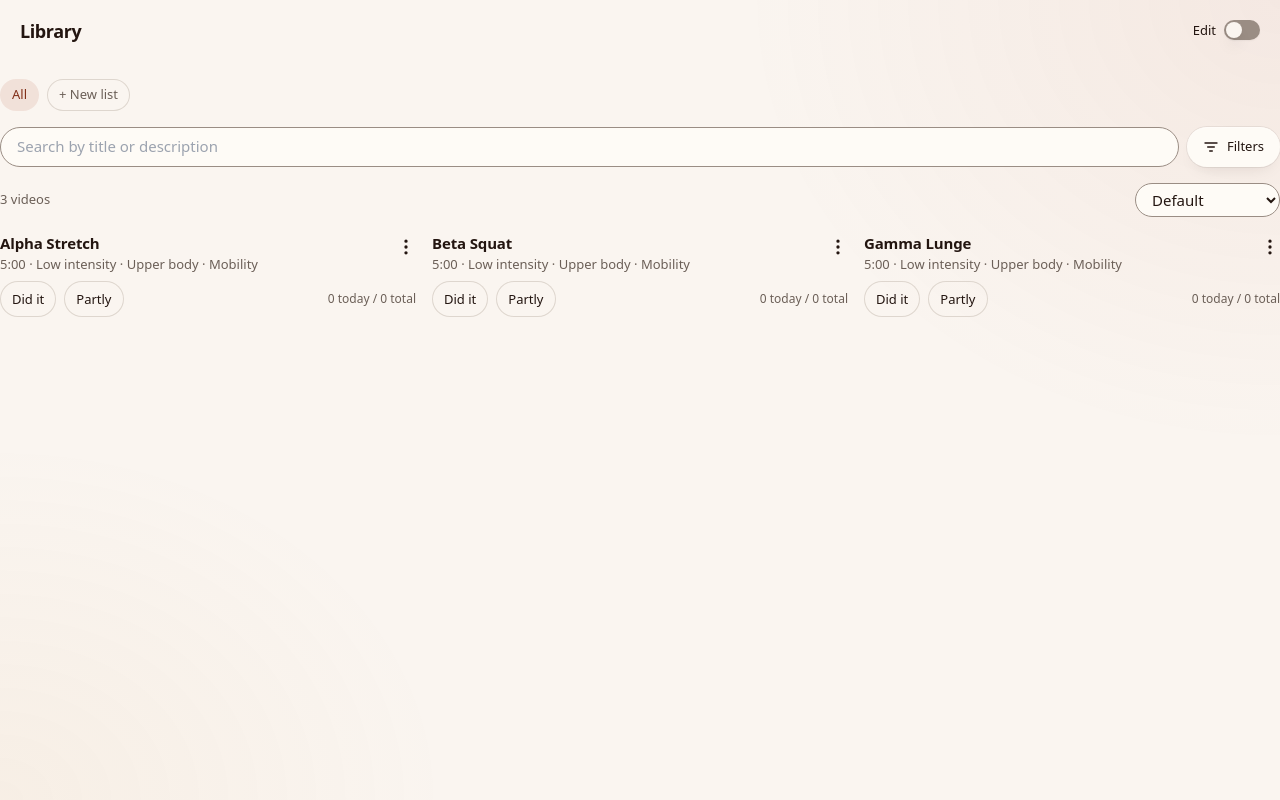
adds an exercise in edit mode
Expected: the heading "Alpha Stretch" is shown, [0,232,100,252]
Click the switch named "edit".
click(1242, 30)  # box [1224,20,1260,40]
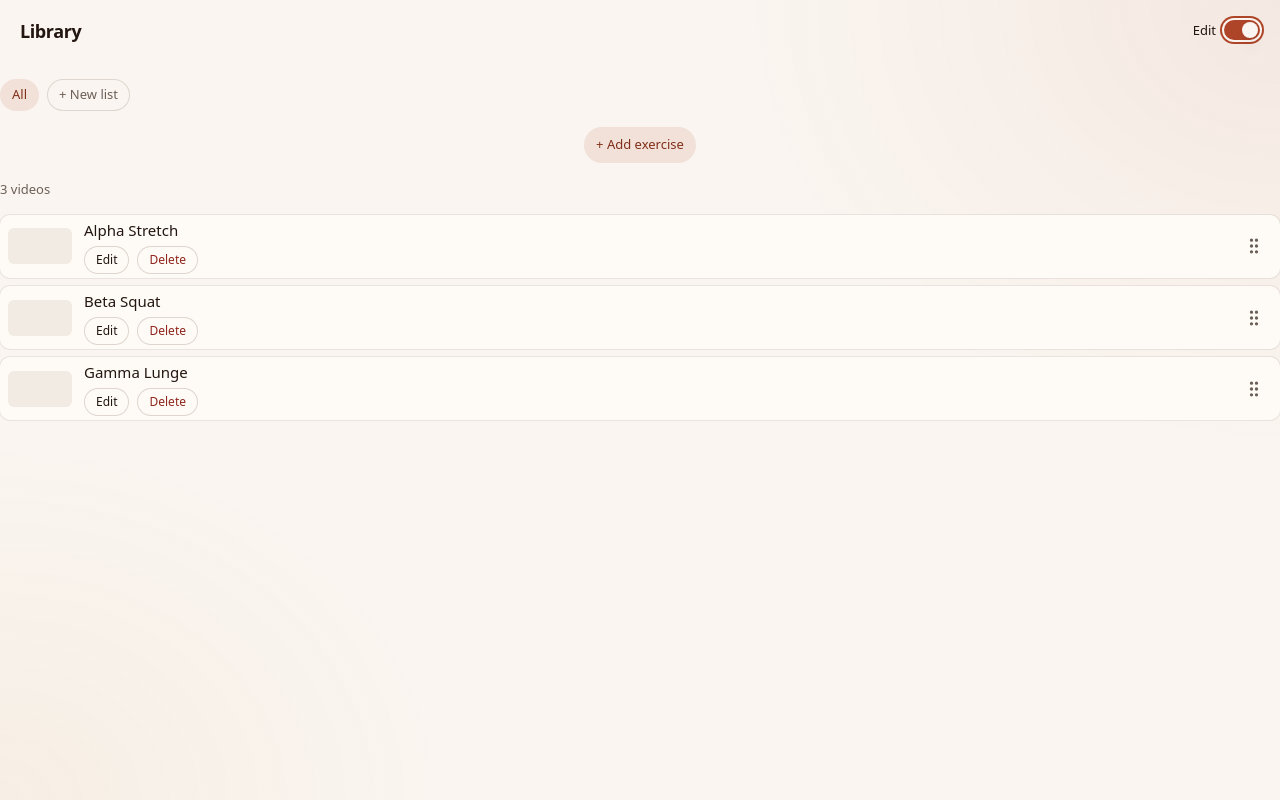
Click the button "+ Add exercise".
click(640, 144)  # box [584,126,696,162]
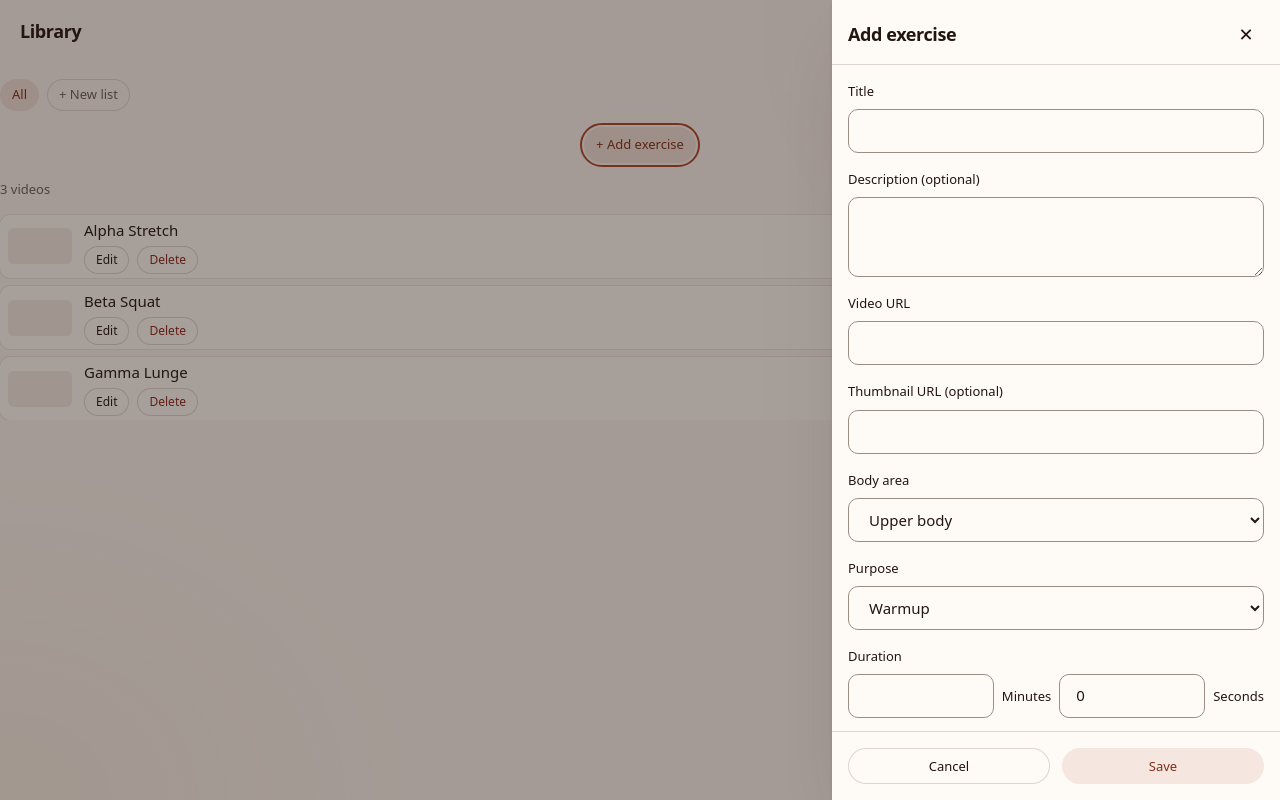
Type "Delta Plank" into the field labelled "Title".
click(1056, 131); type("Delta Plank")  # box [848,109,1264,153]
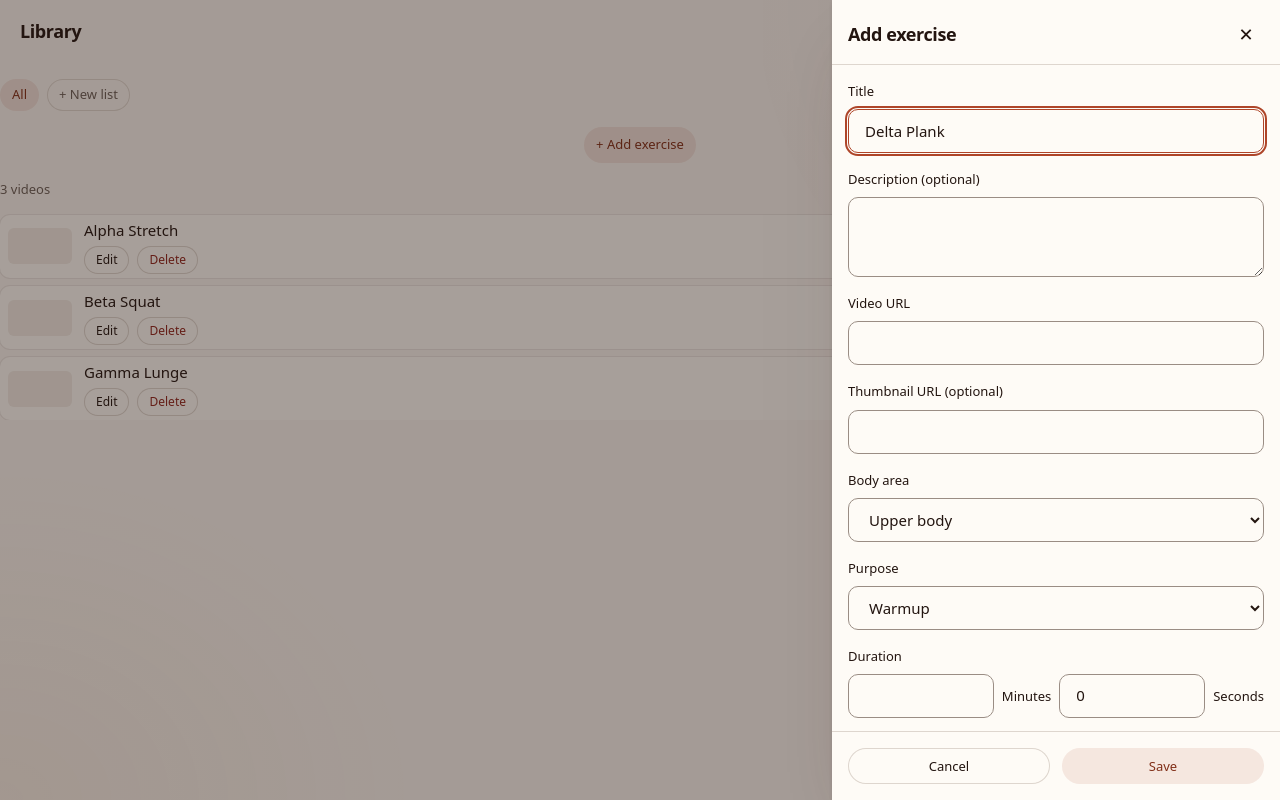
Type "https://example.com/plank.mp4" into the field labelled "Video URL".
click(1056, 343); type("https://example.com/plank.mp4")  # box [848,321,1264,365]
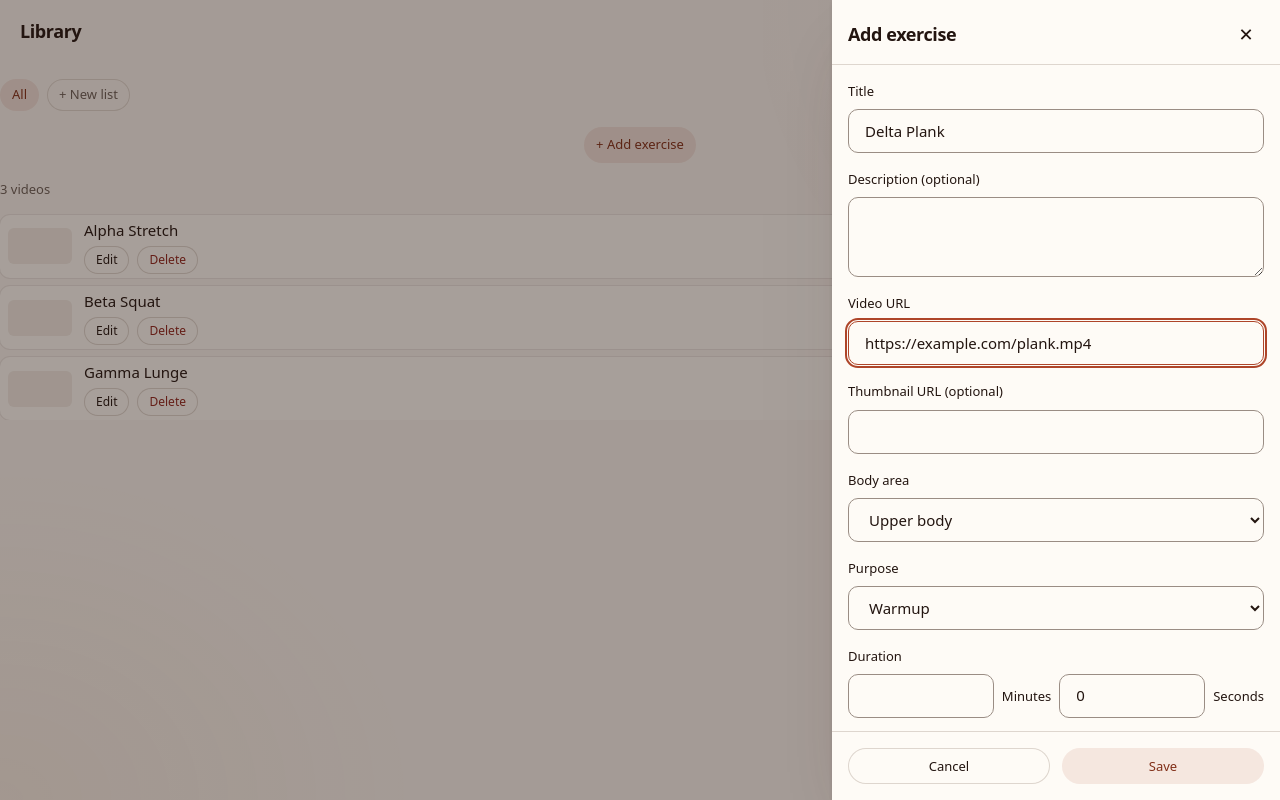
Type "3" into the number field labelled "Minutes".
click(921, 696); type("3")  # box [848,674,994,718]
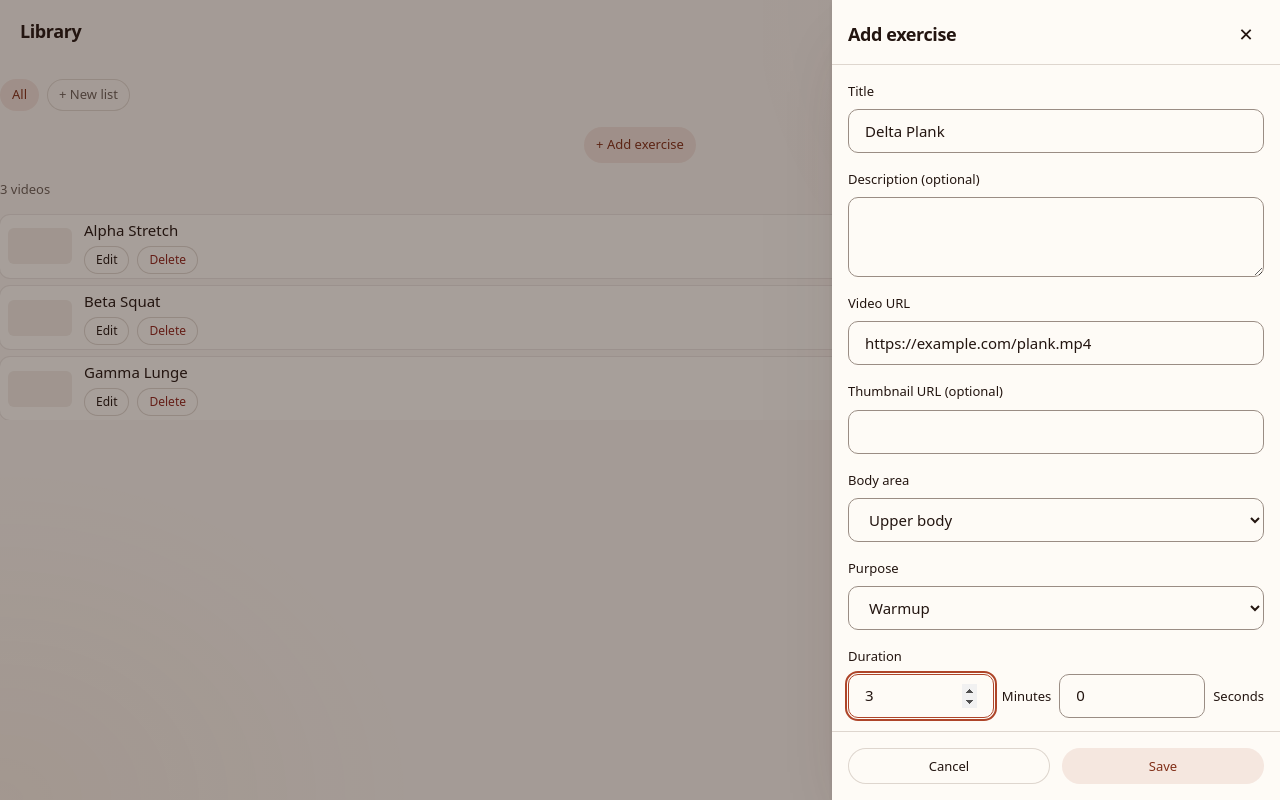
Click the button "Save".
click(1163, 766)  # box [1062,748,1264,784]
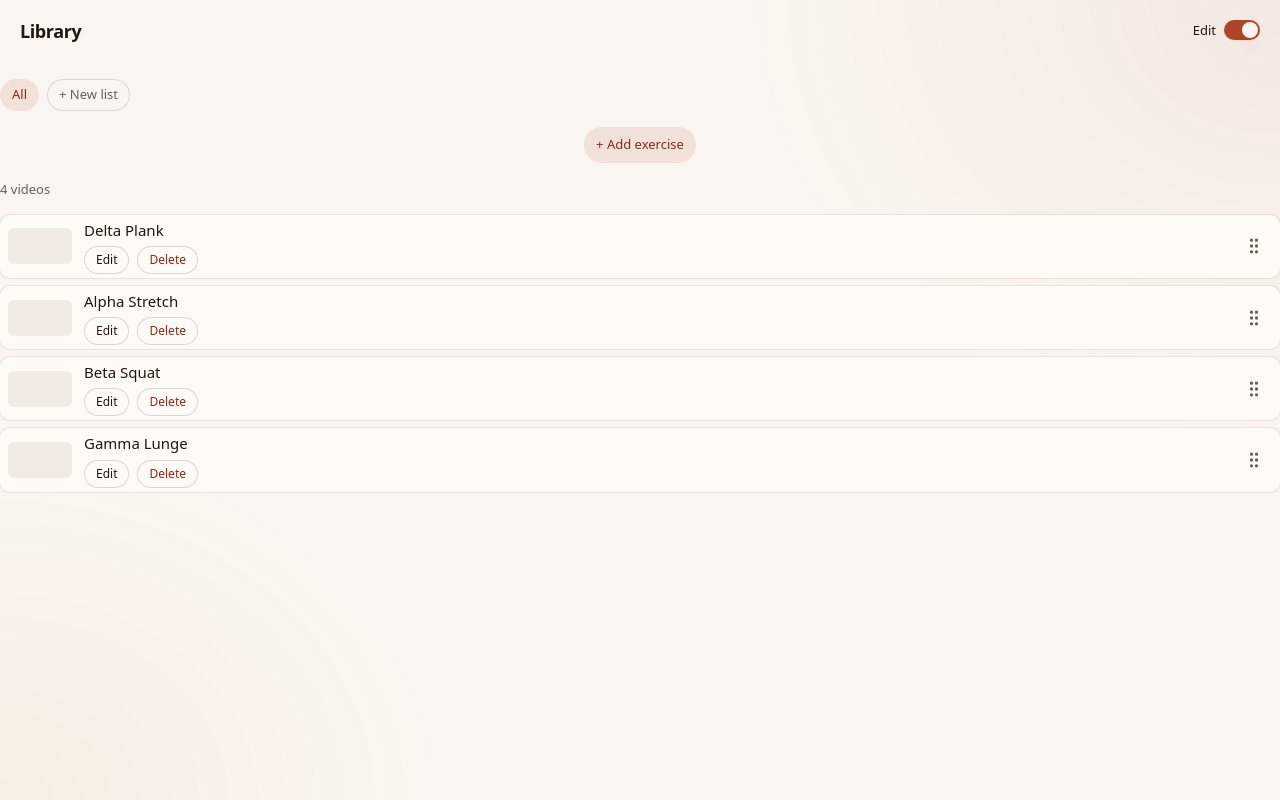
Result: the text "Delta Plank" is shown at [84,220,164,240]
Result: the dialog is gone
